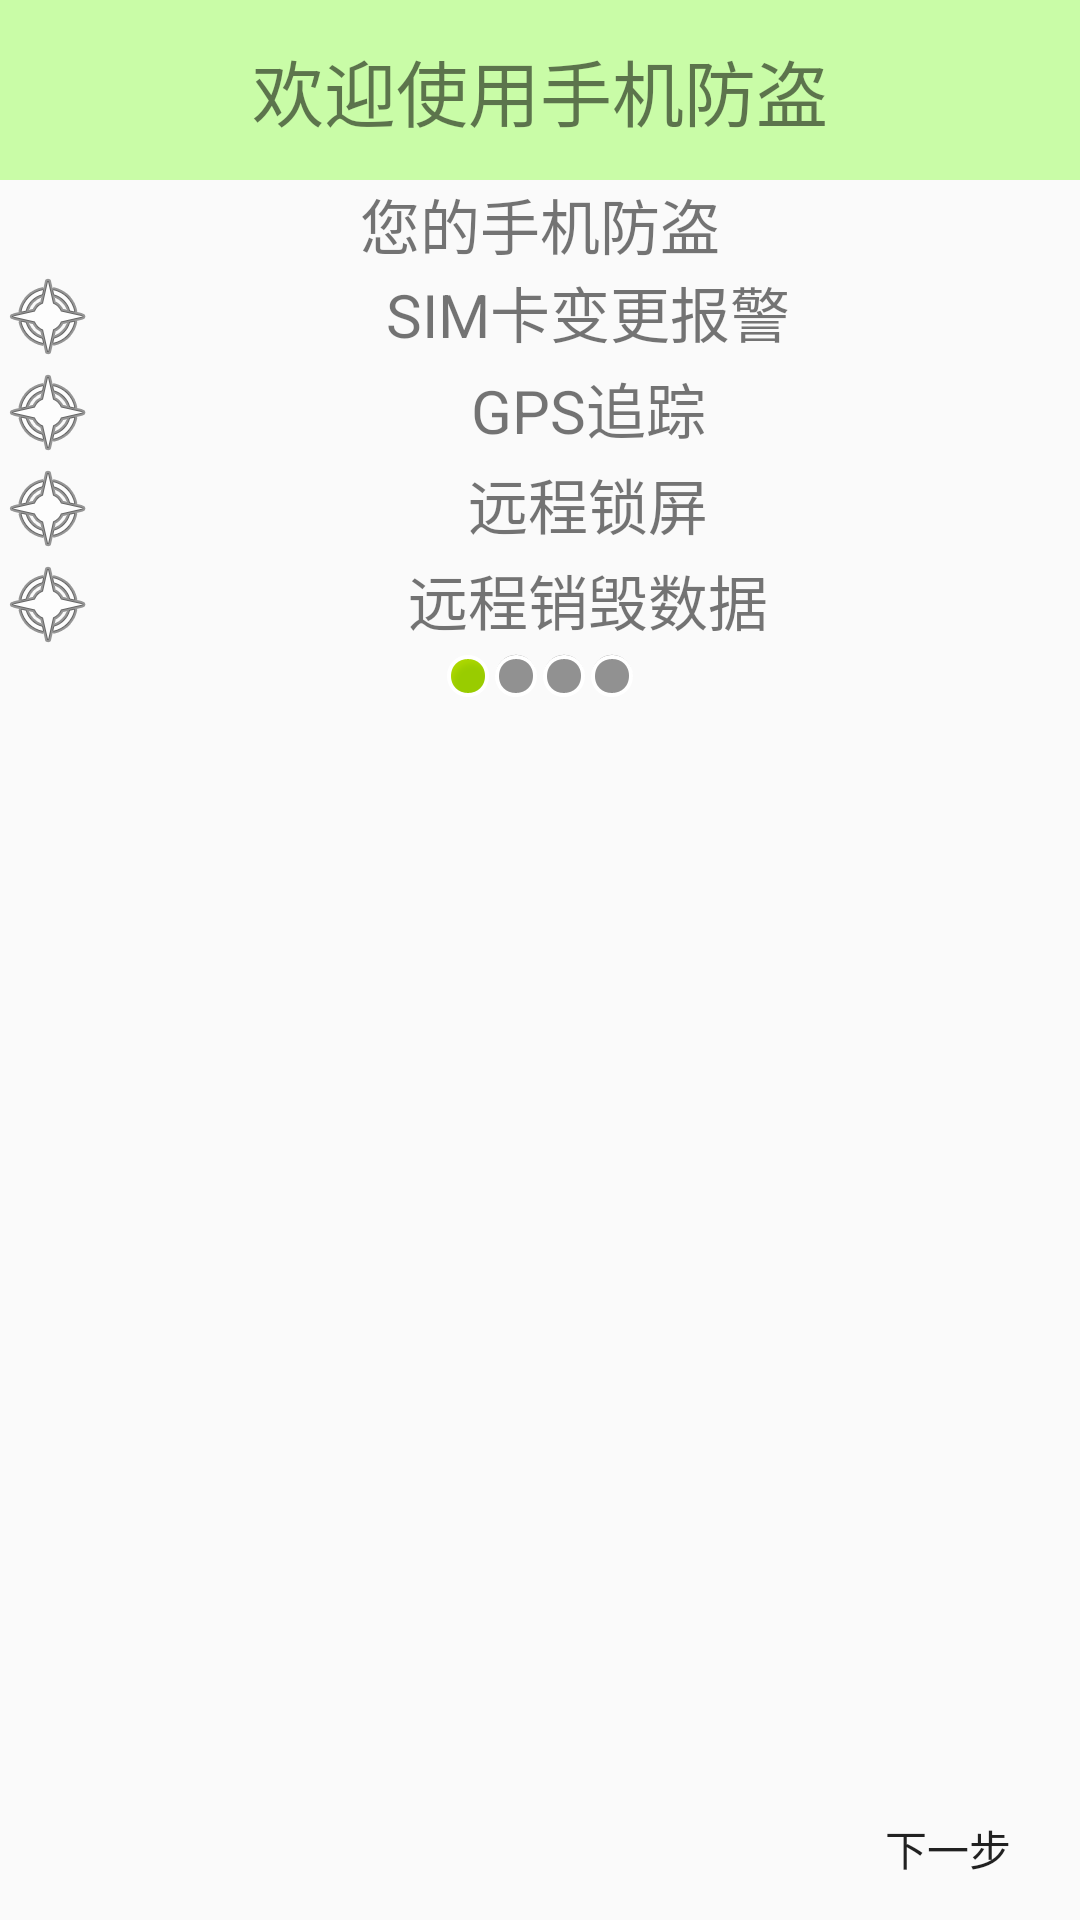

Screen size 1080 x 1920. Icon name, then its center in pixels as (x=x, y=y):
compass: (x=48, y=316), (x=48, y=412), (x=48, y=508), (x=48, y=604)
